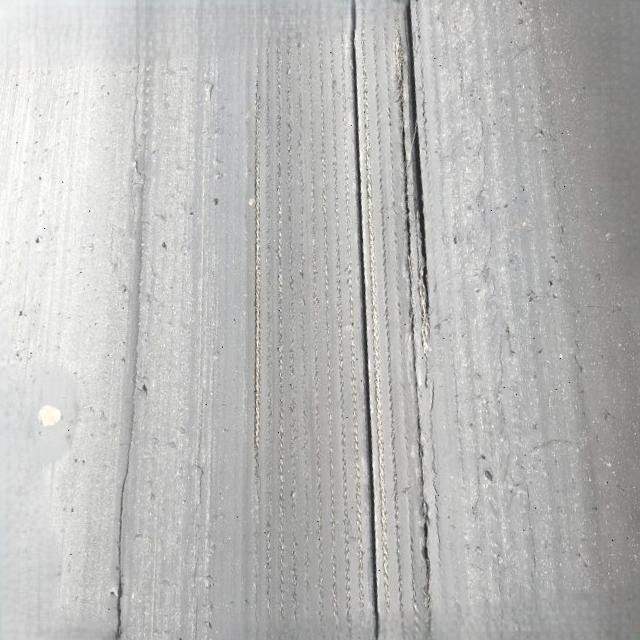Tear: (392, 35, 439, 623), (342, 0, 383, 640), (396, 0, 434, 351), (103, 452, 139, 640)
Wear: (245, 6, 375, 640)
